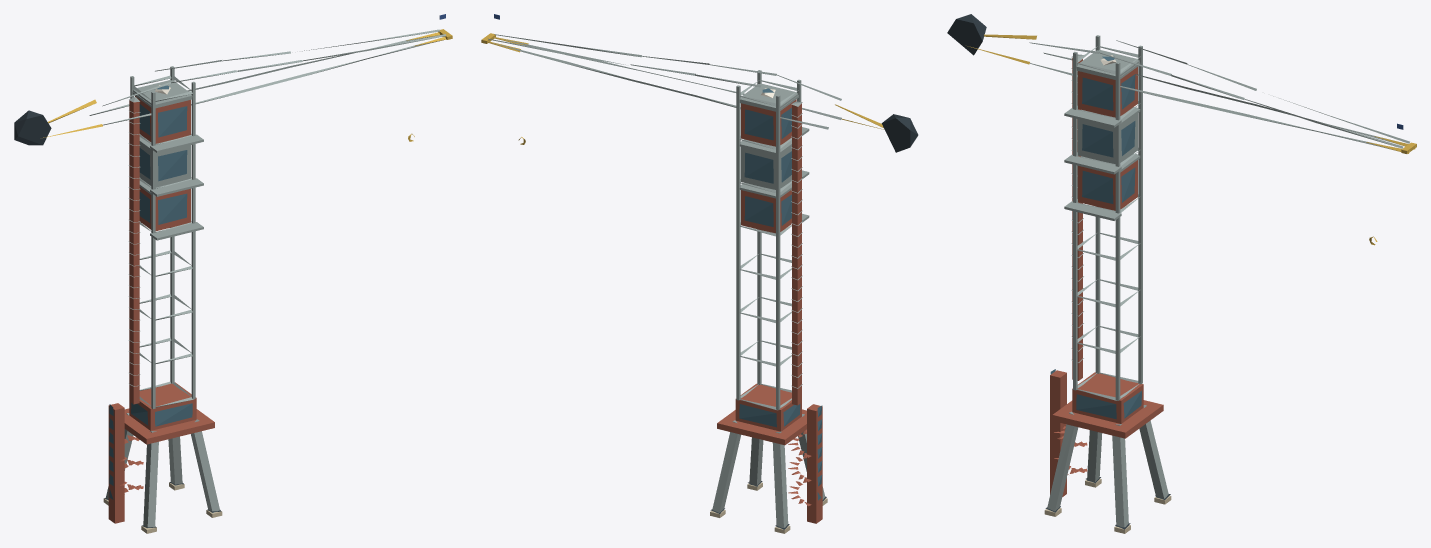
File: faralda-crane-hotel.lod1.glb
3 renders of one model, left to right at view 1: azimuth 30°, elevation 25°; view 2: azimuth 150°, elevation 25°; view 3: azimuth 330°, elevation 25°, orthographic. The views are drawn at different scales.
Visible parts, largest first — view 1: faralda-crane-hotel; view 2: faralda-crane-hotel; view 3: faralda-crane-hotel.
Part boxes in pixels (x1,y1,x2,y2): faralda-crane-hotel: (14, 14, 452, 533); faralda-crane-hotel: (481, 14, 918, 533); faralda-crane-hotel: (947, 14, 1416, 533).
Size of the model in its own units: 51.91 by 49.49 by 9.
